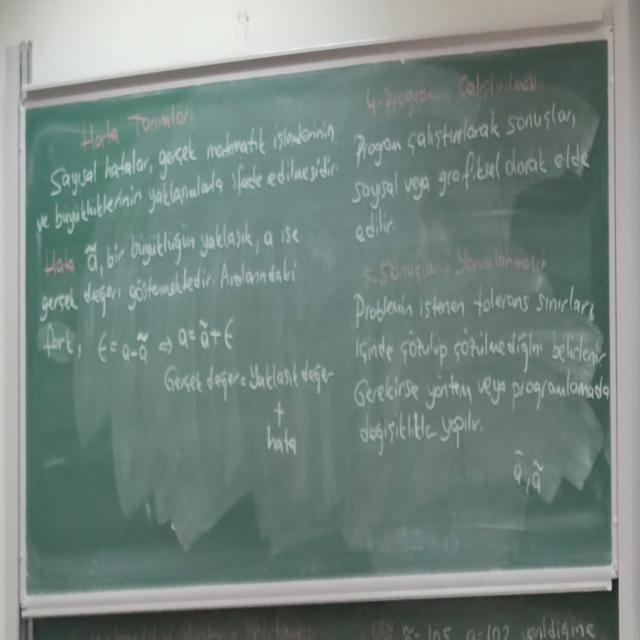text: (35, 95, 346, 471), (353, 71, 607, 451)
